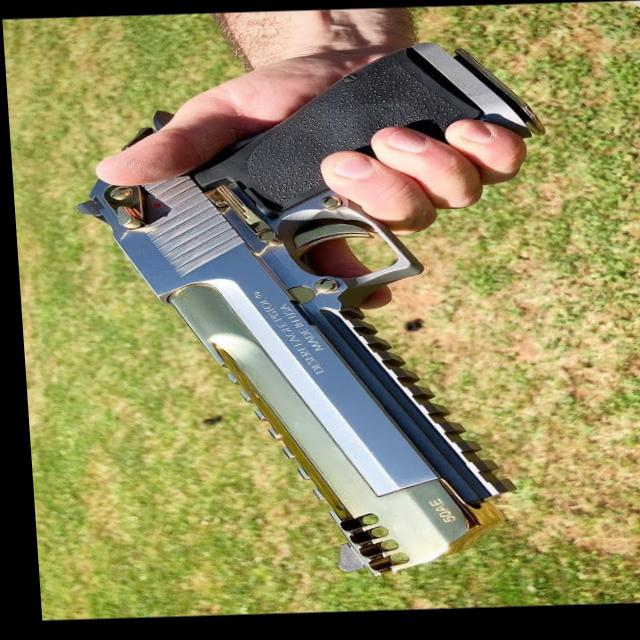handgun: (49, 37, 559, 587)
